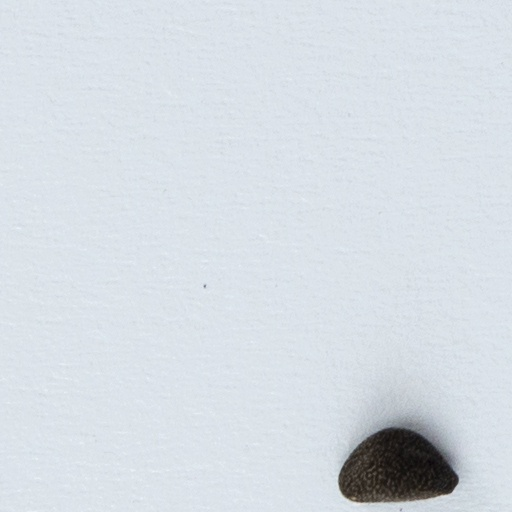Convolvulus-poly: (335, 422, 462, 504)
